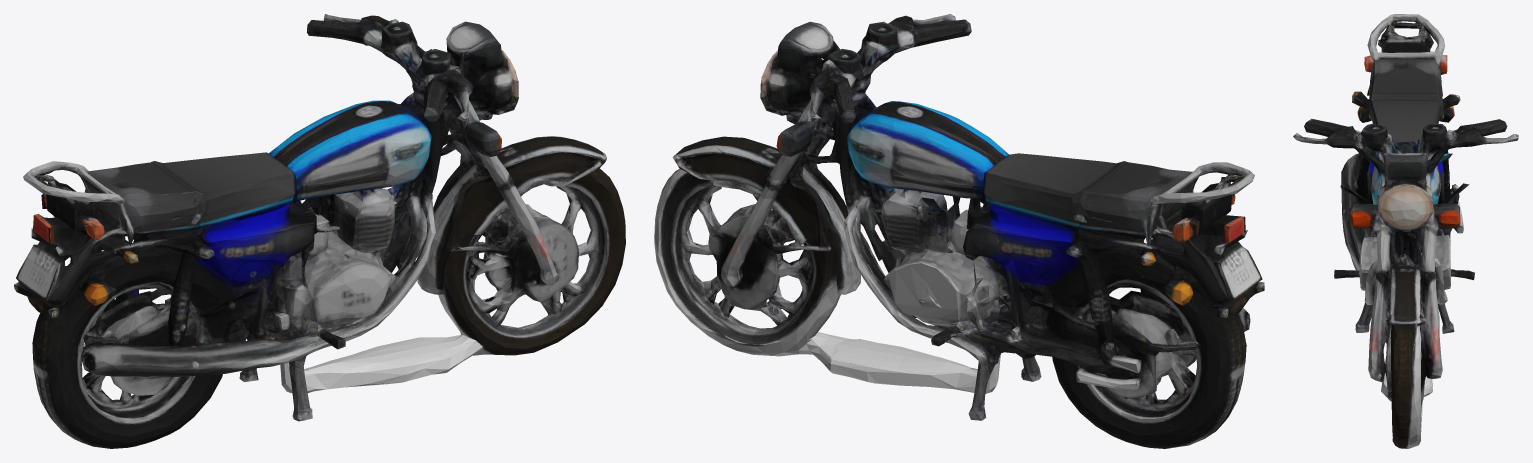
Rendered from KABIR 125.glb.
The picture shows the model from 3 angles, left to right: view 1: azimuth 30°, elevation 25°; view 2: azimuth 150°, elevation 25°; view 3: azimuth 270°, elevation 25°; orthographic projection. The views are drawn at different scales.
Parts seen in each view (by area): view 1: world; view 2: world; view 3: world.
Boxes of the visible parts, <box> form: world: <box>14,14,625,448</box>; world: <box>654,14,1264,448</box>; world: <box>1293,14,1518,448</box>.
Bounding box in the file's own units: 1 × 0.5471 × 0.4136.
1 material, 1 textured.
